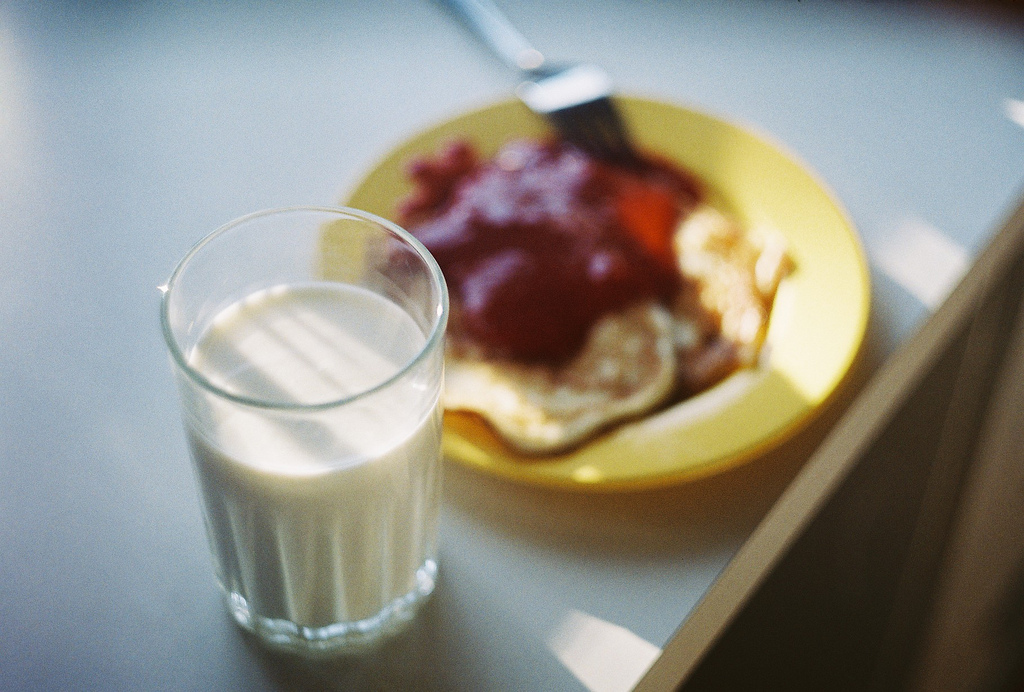glass of milk: (162, 207, 449, 663)
